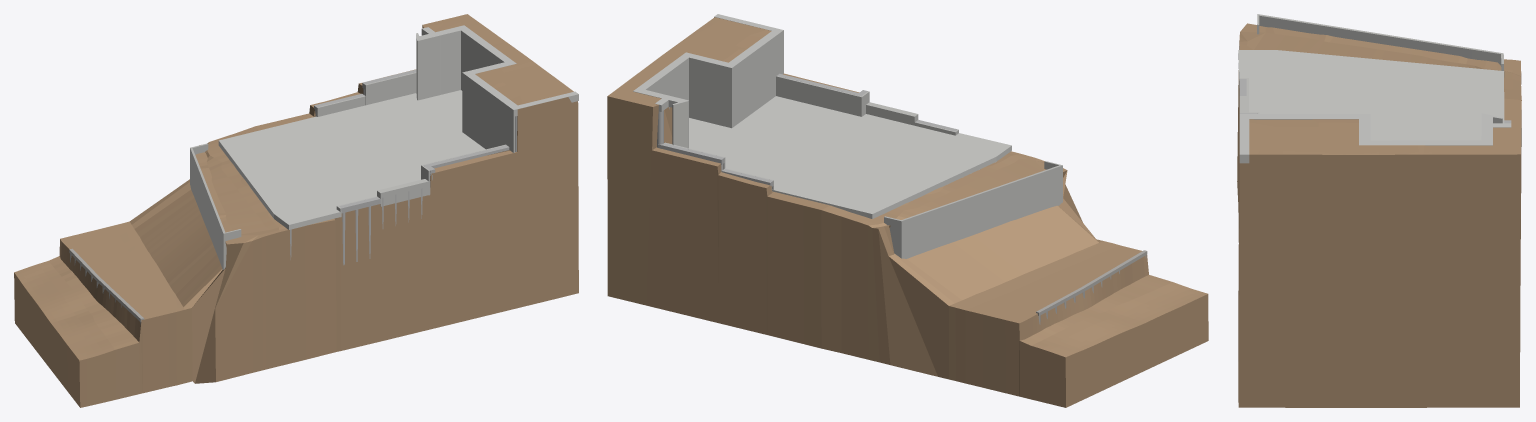
The model's file is slab.glb.
3 views of the same model, side by side, from view 1: azimuth 30°, elevation 25°; view 2: azimuth 150°, elevation 25°; view 3: azimuth 270°, elevation 25° (orthographic). The views are drawn at different scales.
Parts seen in each view (by area): view 1: Terrain 07 - SPW2+3.007, Slab.001, Shotcrete--SP4.002, Retaining wall.003, CB1-RL10.010, CB1-RL9.035, Cube.202, CB1-RL9.028, CB1-RL9.031; view 2: Terrain 07 - SPW2+3.007, Slab.001, Shotcrete--SP4.002, Retaining wall.003, CB1-RL9.034, Cube.202; view 3: Terrain 07 - SPW2+3.007, Slab.001, Shotcrete--SP4.002, Retaining wall.003.
Part boxes in pixels (x1,y1,x2,y2): Terrain 07 - SPW2+3.007: (14, 14, 578, 407); Slab.001: (218, 90, 485, 229); Shotcrete--SP4.002: (416, 25, 578, 152); Retaining wall.003: (190, 143, 241, 269); CB1-RL10.010: (365, 72, 416, 105); CB1-RL9.035: (377, 179, 430, 206); Cube.202: (69, 248, 144, 321); CB1-RL9.028: (423, 145, 509, 175); CB1-RL9.031: (316, 95, 365, 116); Terrain 07 - SPW2+3.007: (607, 17, 1208, 407); Slab.001: (689, 96, 1011, 218); Shotcrete--SP4.002: (633, 14, 783, 148); Retaining wall.003: (884, 161, 1062, 258); CB1-RL9.034: (776, 76, 869, 116); Cube.202: (1036, 250, 1147, 315); Terrain 07 - SPW2+3.007: (1237, 23, 1521, 407); Slab.001: (1238, 50, 1504, 140); Shotcrete--SP4.002: (1239, 113, 1511, 163); Retaining wall.003: (1257, 14, 1503, 70).
Size of the model in its own units: 45.82 by 17.66 by 17.99.
